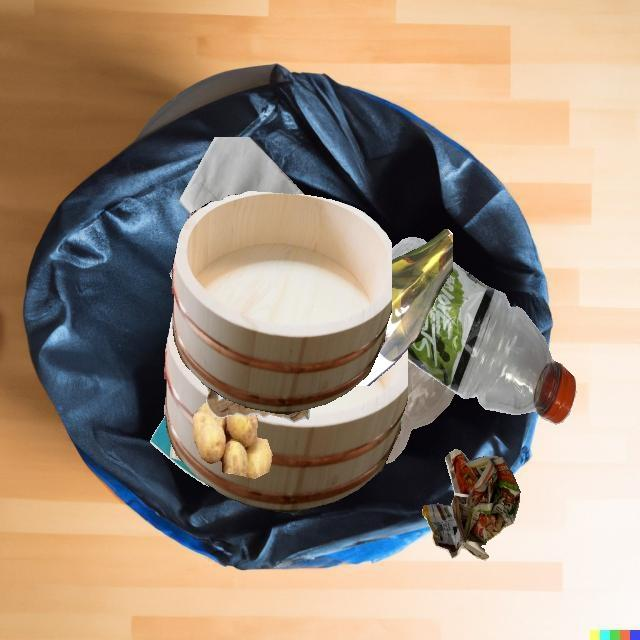biowaste: (194, 401, 272, 478)
cardboard: (206, 385, 310, 423), (170, 444, 182, 461)
combustible waste: (171, 191, 392, 414), (164, 311, 408, 512)
glass: (355, 229, 453, 386)
paper: (422, 449, 520, 560), (179, 137, 305, 214), (150, 416, 211, 487)
plastic: (408, 262, 576, 424), (385, 361, 455, 464)
